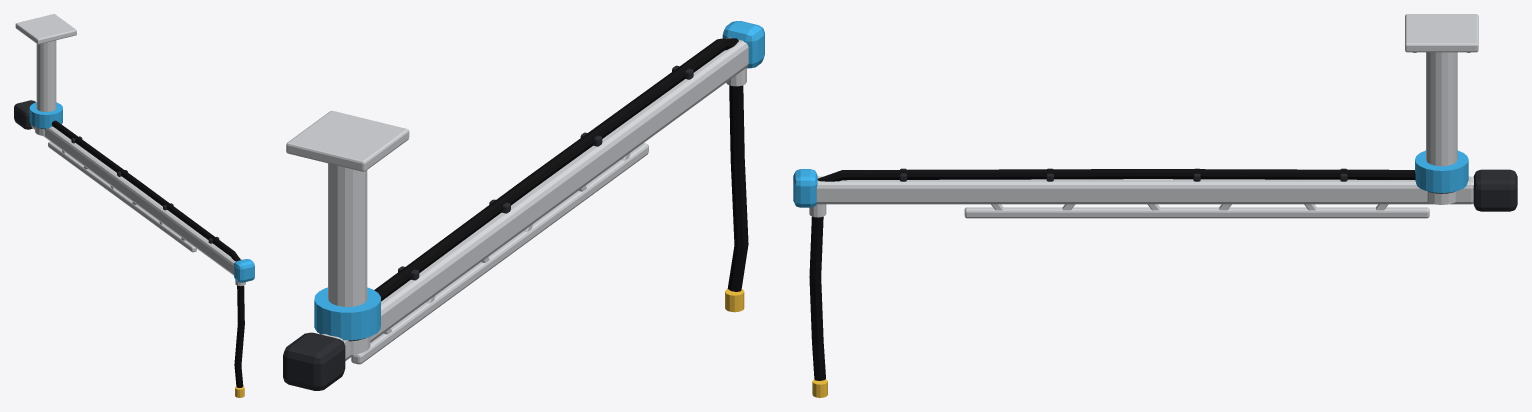
The model's file is SW_BoomArm.glb.
3 views of the same model, side by side, from view 1: azimuth 30°, elevation 25°; view 2: azimuth 150°, elevation 25°; view 3: azimuth 270°, elevation 25° (orthographic). The views are drawn at different scales.
Visible parts, largest first — view 1: Arm, Pivot; view 2: Arm, Pivot; view 3: Arm, Pivot.
Part boxes in pixels (x1,y1,x2,y2): Arm: (14,100,254,397); Pivot: (15,14,76,129); Arm: (283,21,764,390); Pivot: (286,110,409,341); Arm: (793,168,1517,397); Pivot: (1405,14,1478,193).
Size of the model in its own units: 0.3 by 1.65 by 2.96.
2 materials, 1 textured.
